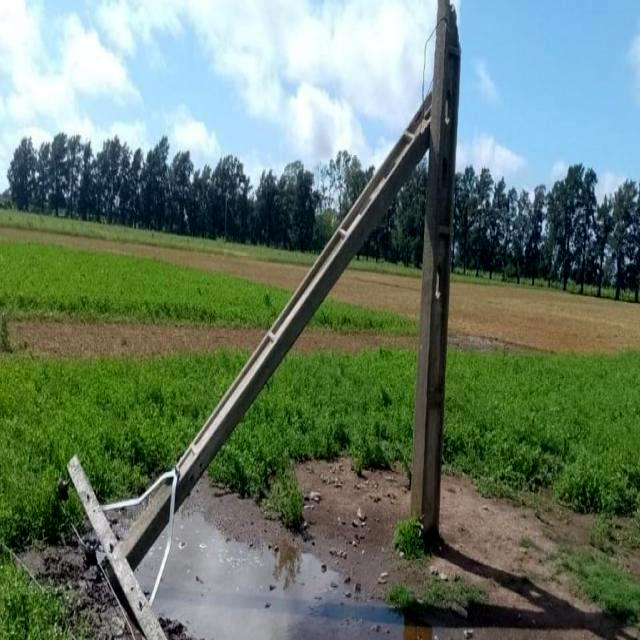Broken Pole: (56, 1, 468, 640)
